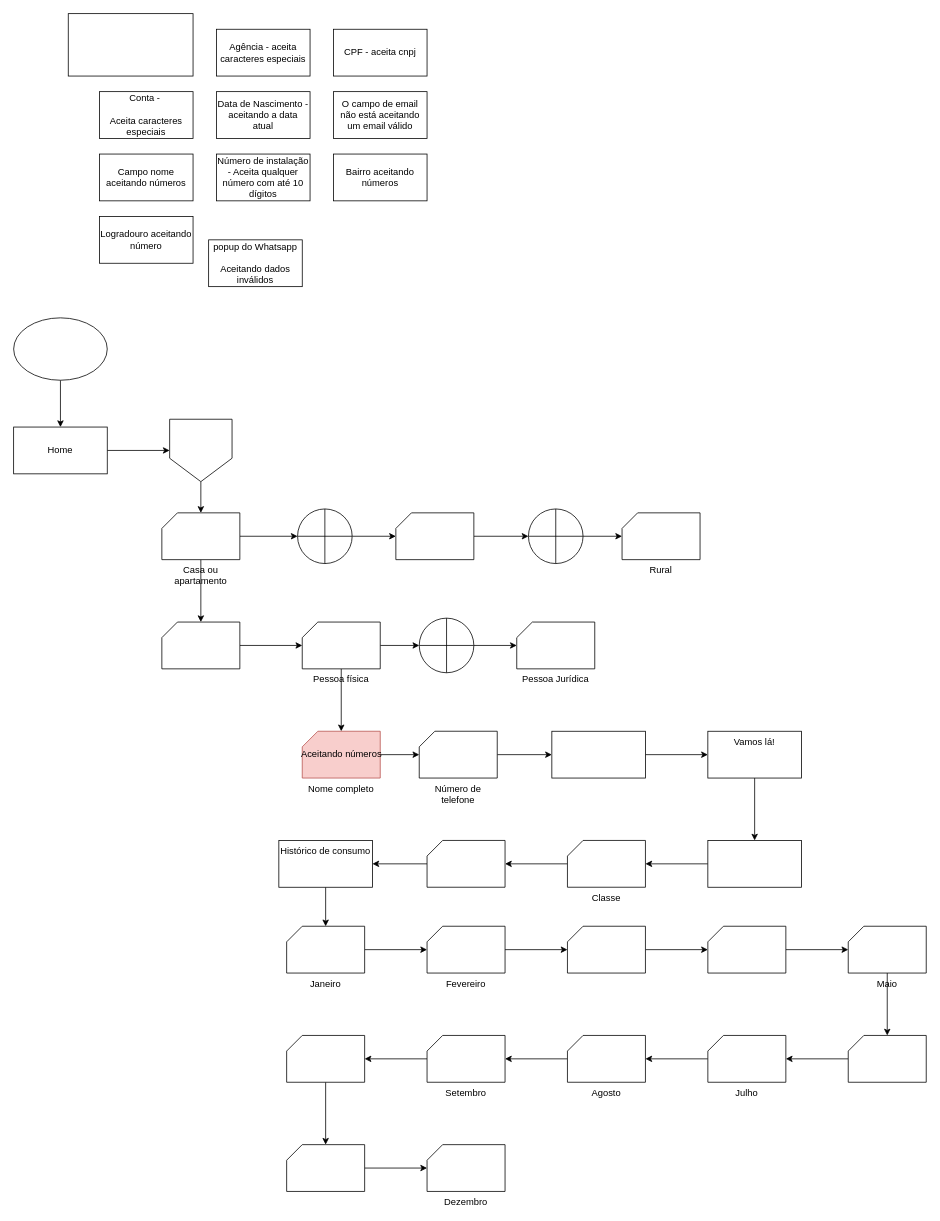
Some shapes in this 940 by 1221 pixel diagram are drawn without their labels. The shapes that lost their labels are listed below. From the top down, each one's centre as x and y in pixels, then its label:
At pixel 130 44: "Dia de vencimento da fatura - Após um número aceita caracteres especiais".
At pixel 60 348: "Início".
At pixel 200 450: "Contratar".
At pixel 434 536: "Comércio".
At pixel 200 645: "Selecione um estado".
At pixel 598 754: "Continuar".
At pixel 465 863: "Grupo tarifário".
At pixel 754 863: "Confirme seu consumo".
At pixel 606 949: "Março".
At pixel 746 949: "Abril".
At pixel 325 1058: "Outubro".
At pixel 886 1058: "Junho".
At pixel 325 1167: "Novembro".
